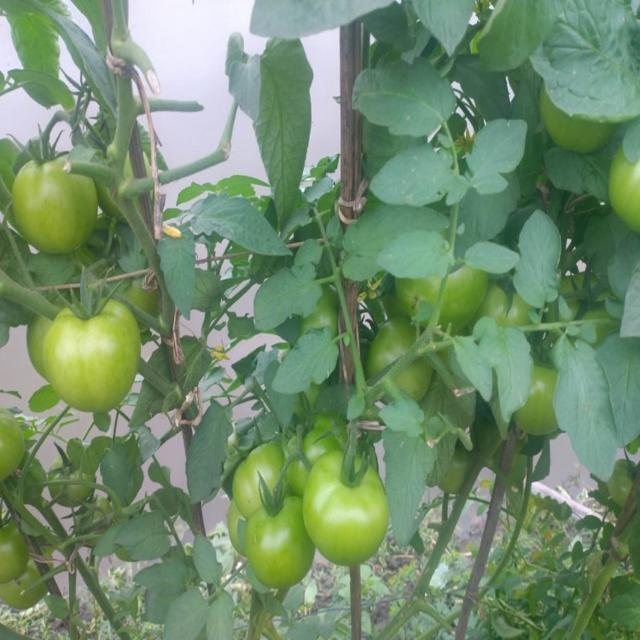tomato: (48, 297, 142, 402), (14, 147, 103, 252), (304, 452, 384, 565), (247, 497, 314, 586), (540, 85, 621, 158), (395, 269, 487, 333), (550, 269, 621, 343), (298, 420, 381, 482), (368, 320, 428, 405), (510, 361, 564, 439), (482, 277, 544, 339), (234, 443, 287, 509), (607, 142, 640, 230), (301, 280, 345, 338), (27, 304, 59, 381), (49, 456, 98, 506), (6, 556, 51, 609), (130, 273, 168, 330), (1, 408, 29, 479), (1, 511, 25, 589), (441, 451, 479, 497), (609, 458, 640, 509), (226, 503, 245, 552)
